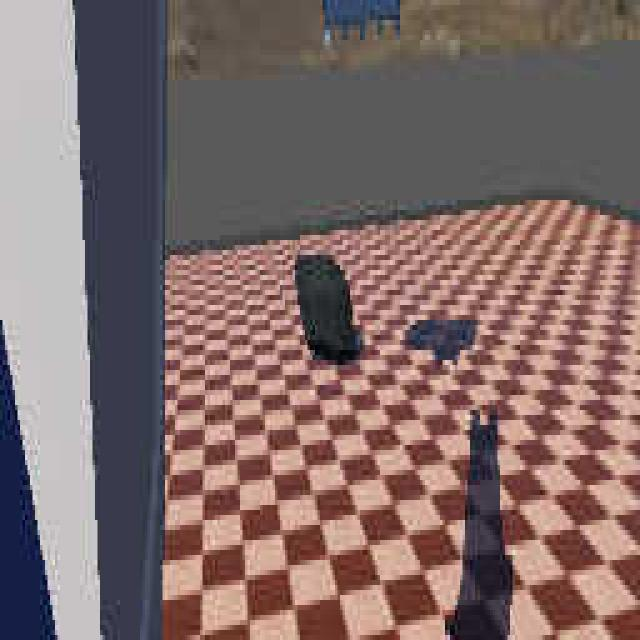rock: (296, 249, 356, 368)
